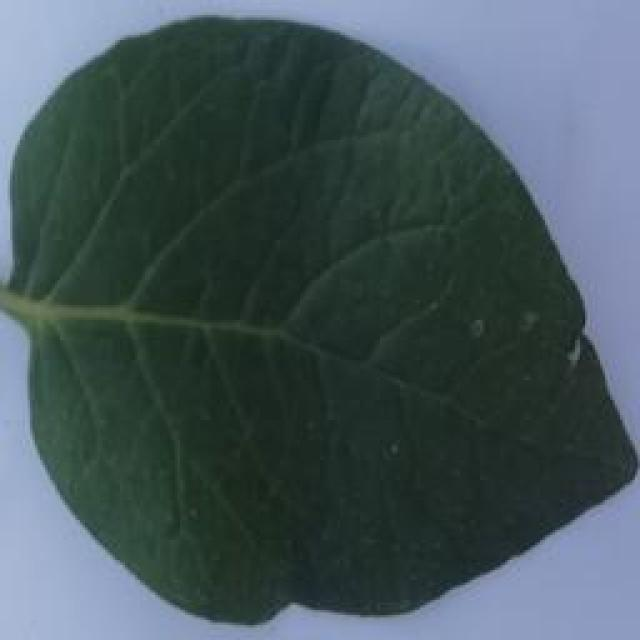Potato_Healthy: (5, 16, 623, 622)
